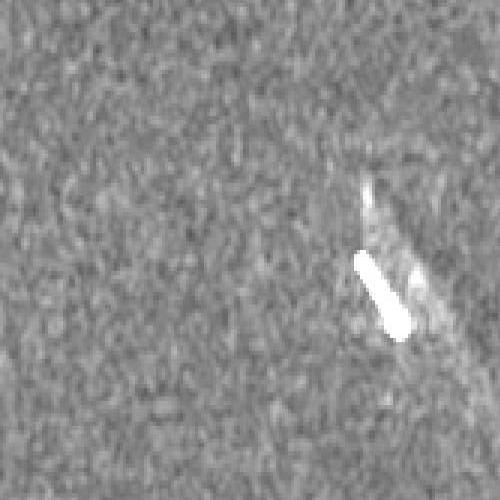ship: (353, 248, 414, 342)
